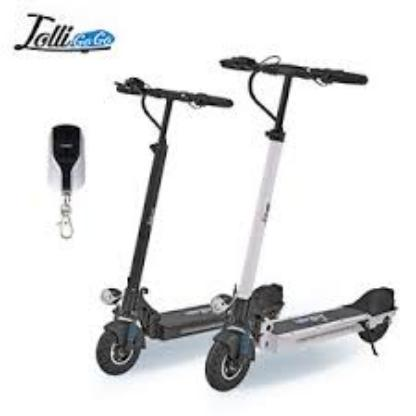bike: (93, 55, 400, 394)
